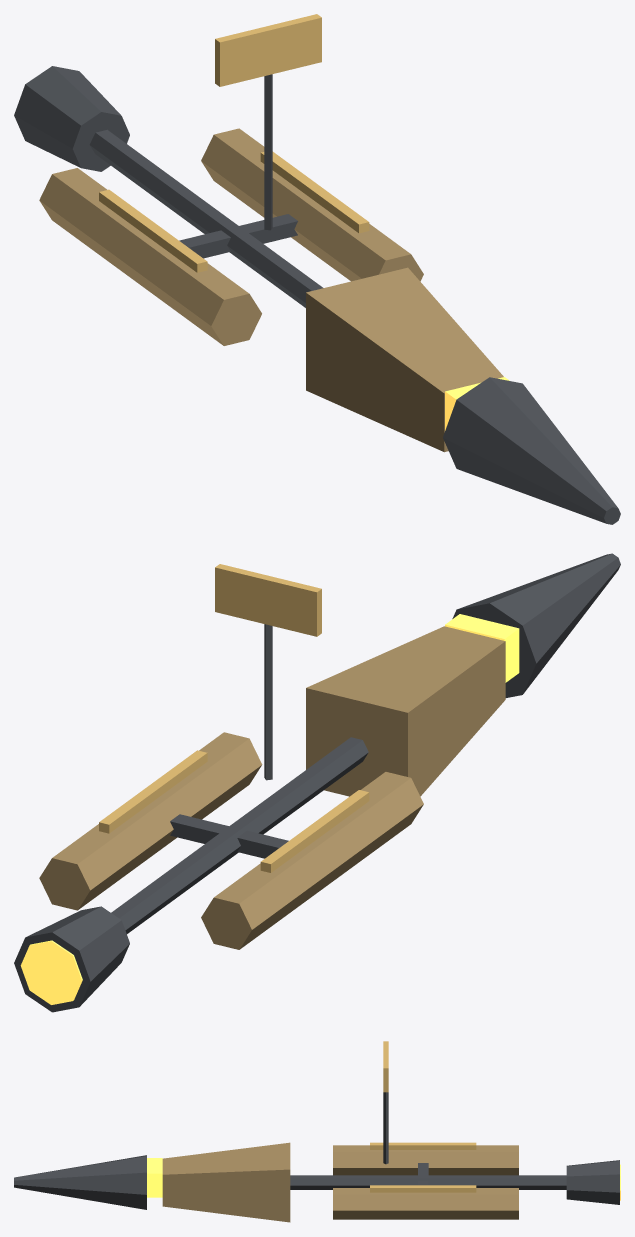
File: foundry_scout.glb
3 views of the same model, one above another, from view 1: azimuth 30°, elevation 25°; view 2: azimuth 150°, elevation 25°; view 3: azimuth 270°, elevation 25° (orthographic). The views are drawn at different scales.
Visible parts, largest first — view 1: scout; view 2: scout; view 3: scout.
Part boxes in pixels (x1,y1,x2,y2): scout: (14, 14, 620, 524); scout: (14, 553, 620, 1012); scout: (14, 1041, 620, 1222).
Bounding box in the file's own units: 2.5 × 3.2 × 11.42.
